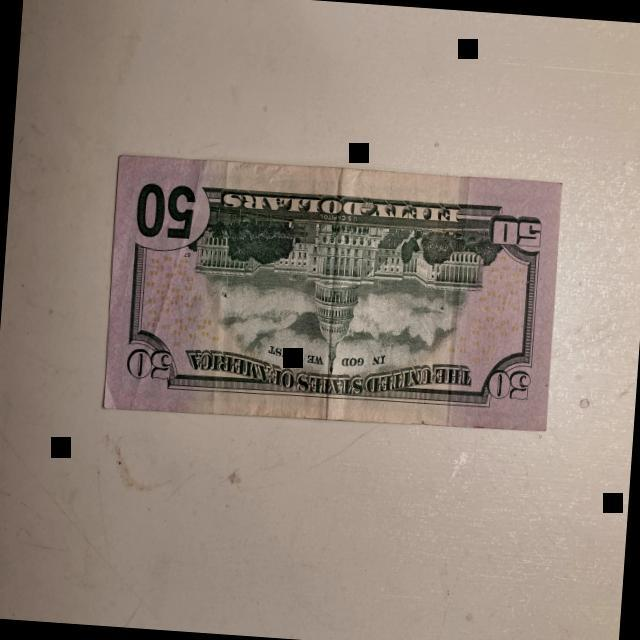fifty: (99, 148, 564, 440)
